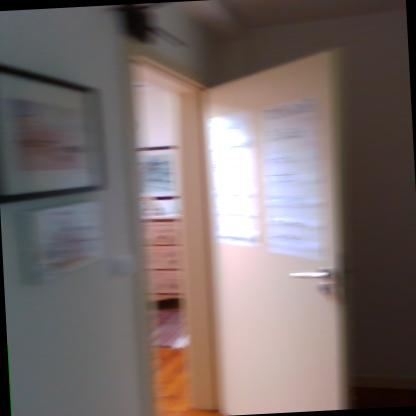semi: (98, 26, 361, 416)
